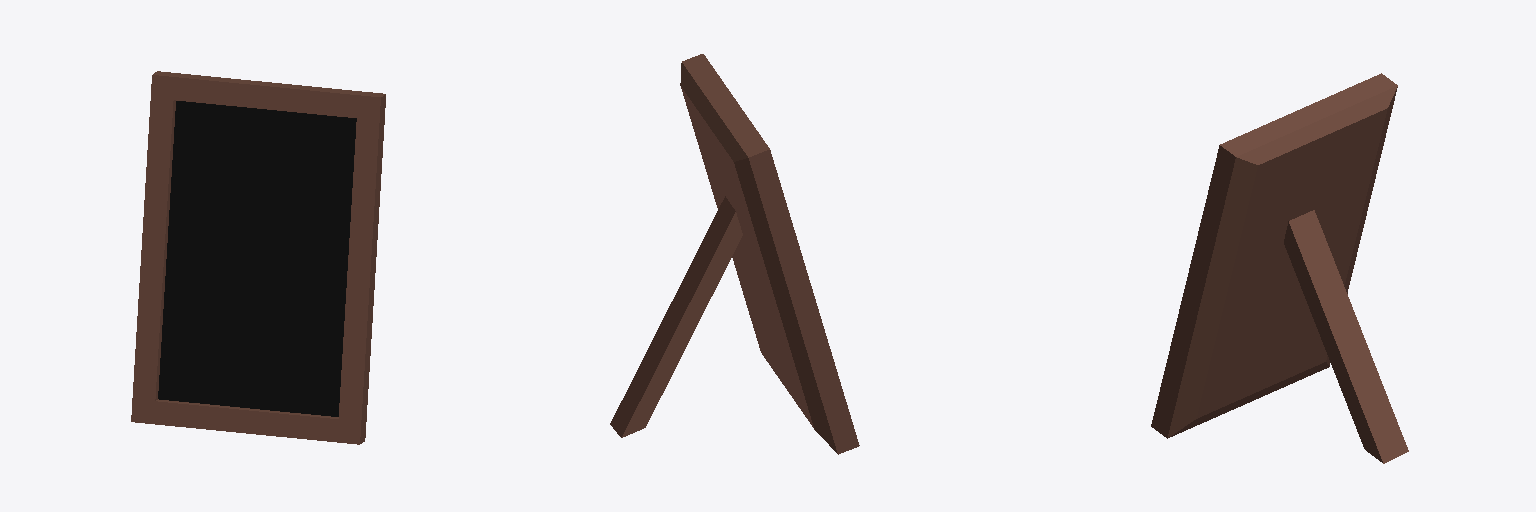
File: frame.obj
The picture shows the model from 3 angles: view 1: azimuth 30°, elevation 25°; view 2: azimuth 150°, elevation 25°; view 3: azimuth 270°, elevation 25°; orthographic projection.
Visible parts, largest first — view 1: group[number redacted]; view 2: group[number redacted], group[number redacted]; view 3: group[number redacted], group[number redacted].
Boxes of the visible parts, <box> form: group[number redacted]: <box>131,71,385,444</box>; group[number redacted]: <box>680,54,859,454</box>; group[number redacted]: <box>610,196,742,437</box>; group[number redacted]: <box>1151,73,1397,438</box>; group[number redacted]: <box>1284,210,1408,463</box>.
Size of the model in its own units: 0.1329 by 0.1844 by 0.137.